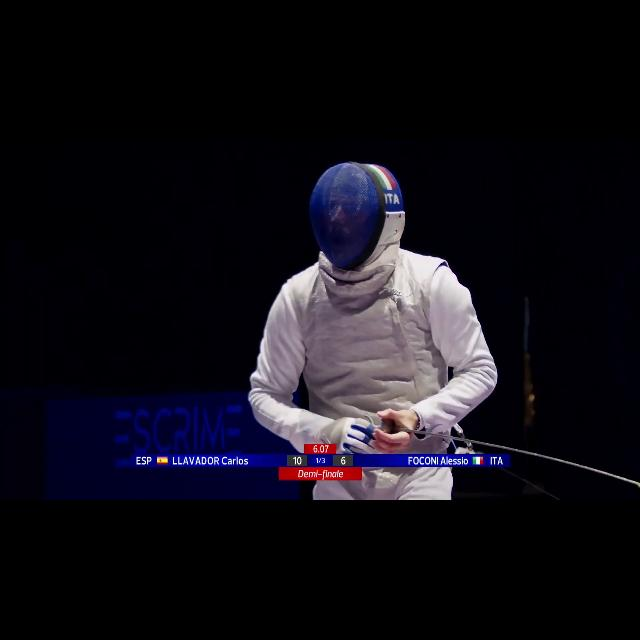blade: (350, 417, 638, 493)
